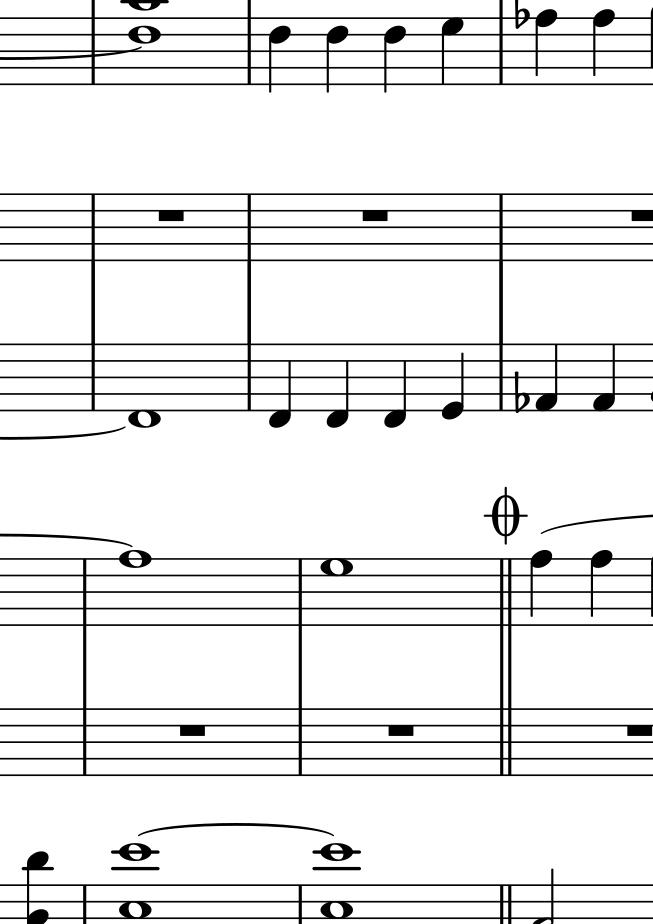1_-1: (127, 341, 164, 430)
1_6: (127, 16, 162, 86)
1_7: (320, 557, 355, 629)
1_8: (117, 548, 153, 630)
4_-1: (265, 341, 294, 429), (384, 341, 409, 430), (326, 341, 351, 429)
4_0: (440, 342, 465, 422)
4_1: (592, 343, 619, 411), (535, 344, 560, 413)
4_6: (325, 16, 351, 94), (382, 16, 408, 94), (267, 15, 290, 93)
4_7: (439, 16, 466, 88)
4_8: (588, 548, 612, 629), (528, 549, 552, 628)
8_8: (534, 9, 560, 88), (592, 8, 617, 90)
Coda: (484, 484, 529, 543)
Flat: (511, 370, 530, 415), (514, 1, 530, 37)
Rests1: (171, 720, 216, 746), (153, 206, 192, 225), (619, 721, 653, 741), (357, 207, 395, 224), (384, 719, 418, 738), (628, 206, 653, 223)
Single_barline: (497, 559, 516, 626), (240, 17, 258, 82), (84, 194, 101, 259), (292, 708, 309, 773), (291, 557, 307, 625), (84, 18, 101, 81), (240, 195, 257, 258), (240, 345, 257, 408), (492, 346, 509, 409), (493, 20, 510, 83), (76, 708, 92, 774), (76, 559, 92, 624), (493, 196, 509, 258), (85, 345, 101, 405)
Slur: (136, 822, 337, 837)
